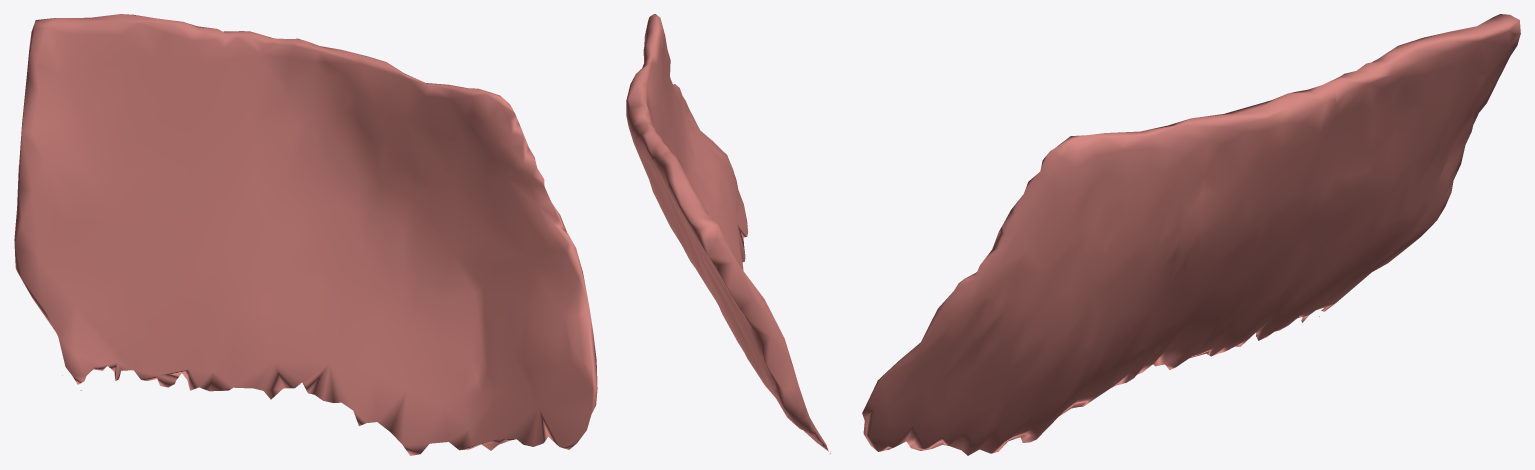
Rendered from fma46762_mm1073.glb.
3 views of the same model, side by side, from view 1: azimuth 30°, elevation 25°; view 2: azimuth 150°, elevation 25°; view 3: azimuth 270°, elevation 25° (orthographic). The views are drawn at different scales.
Visible parts, largest first — view 1: FMA46762_MM1073; view 2: FMA46762_MM1073; view 3: FMA46762_MM1073.
Boxes of the visible parts, left/top/right/bottom form: FMA46762_MM1073: left=14, top=14, right=597, bottom=455; FMA46762_MM1073: left=626, top=14, right=830, bottom=453; FMA46762_MM1073: left=862, top=14, right=1520, bottom=455.
Bounding box in the file's own units: 0.0359 × 0.0323 × 0.0537.
